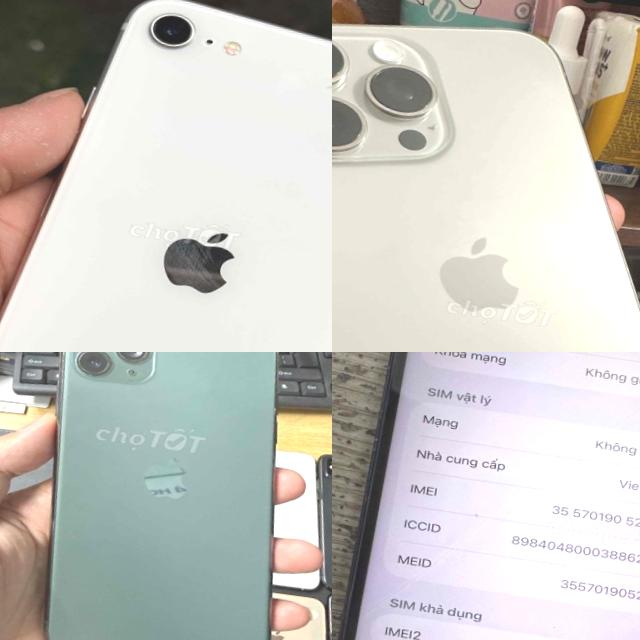physical_damage: (352, 352, 640, 640)
scratch: (327, 75, 332, 93)
